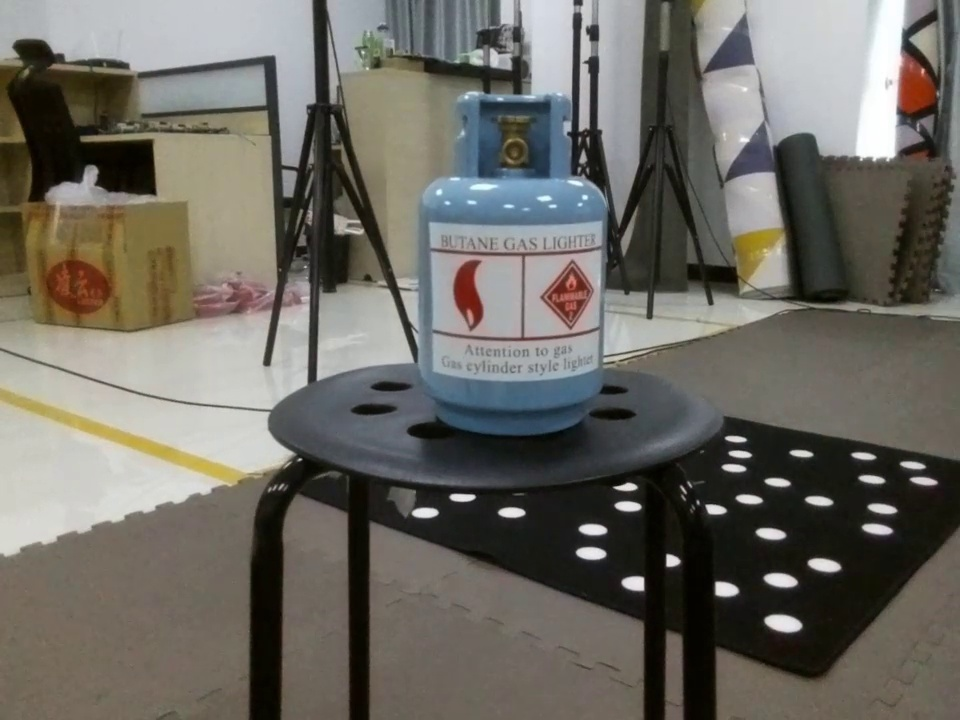gas tank: (393, 85, 646, 441)
